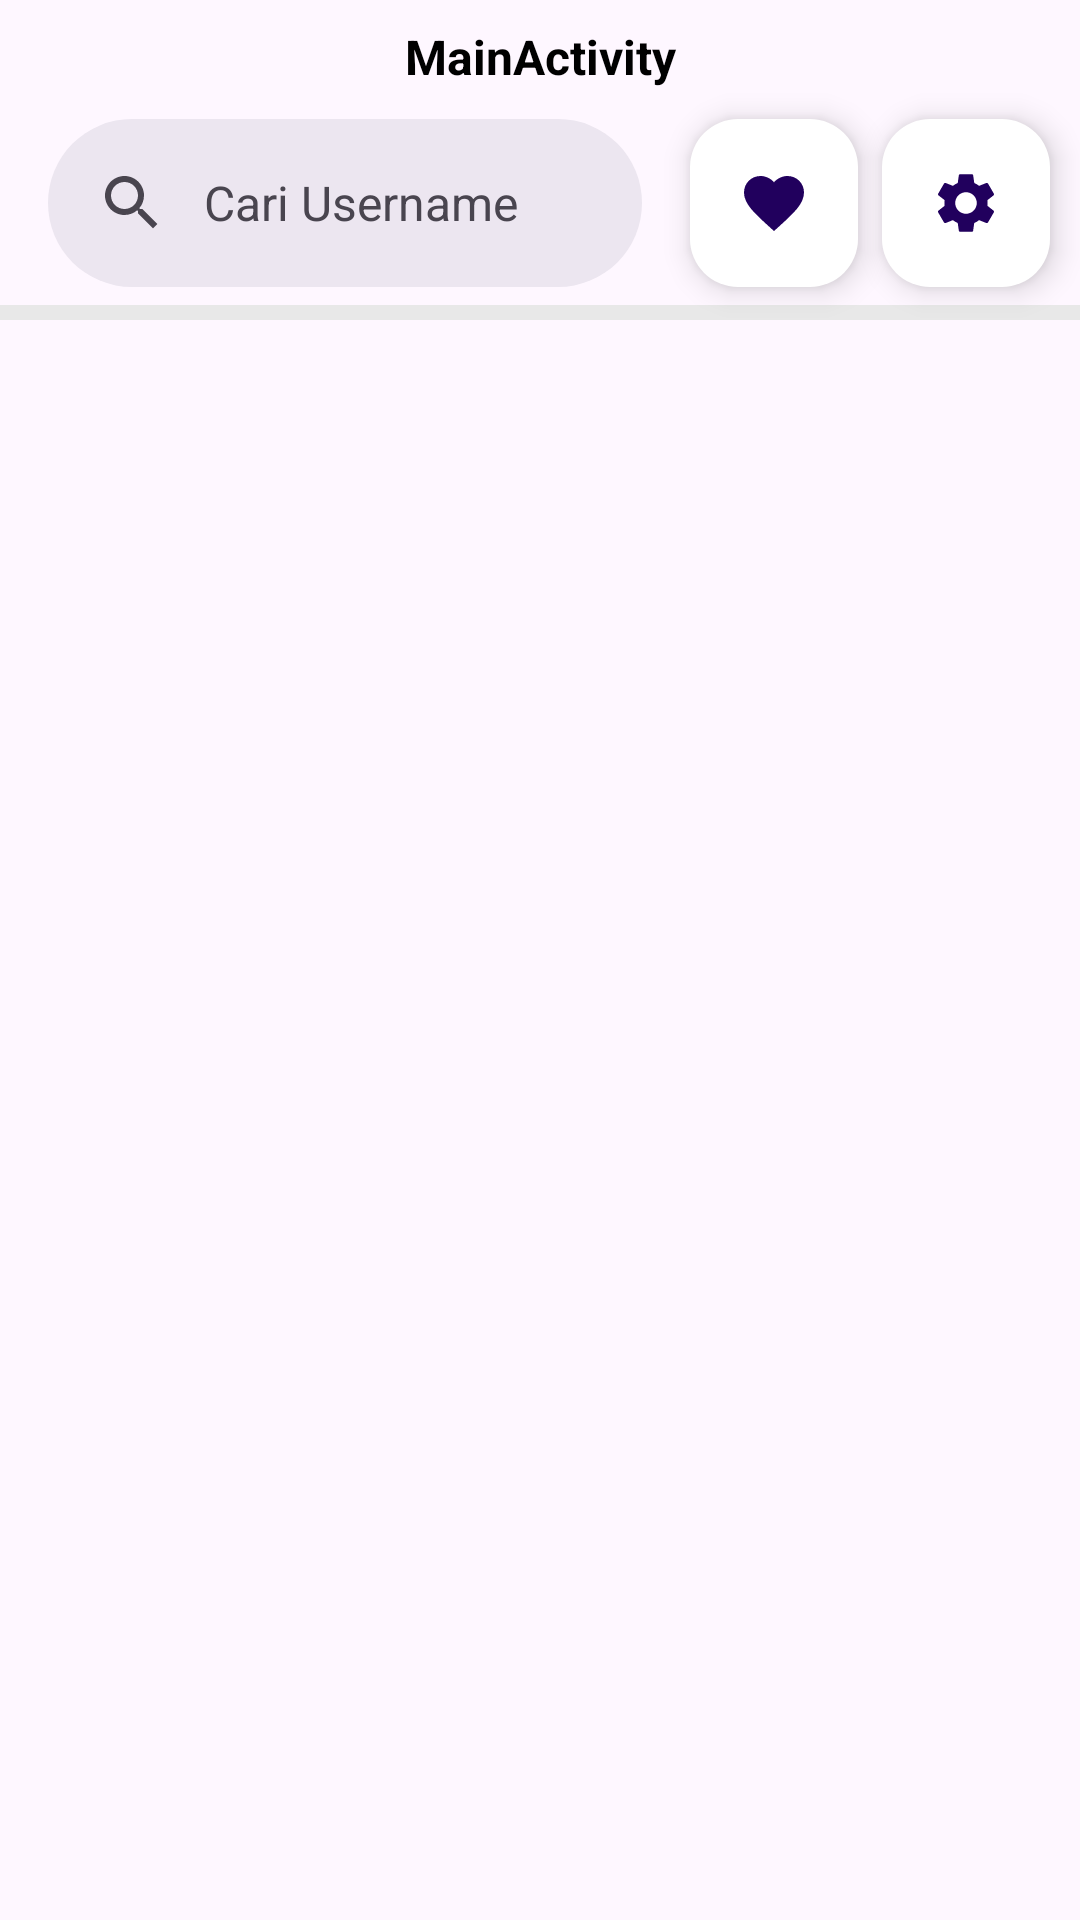

Icons on this 1080×1920 Android screen, each with its box as (x1, y1, x2, y2):
favorite: (690, 119, 858, 287)
settings: (882, 119, 1050, 287)
